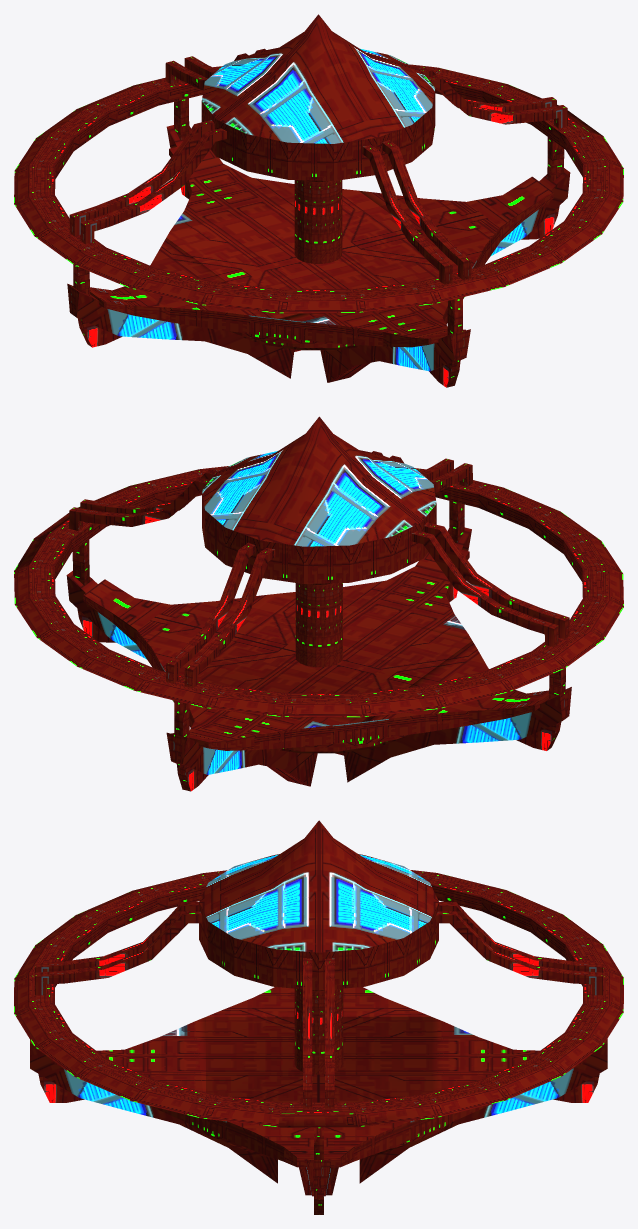
Rendered from Vul_StarBase.fbx.
The picture shows the model from 3 angles, top to bottom: view 1: azimuth 30°, elevation 25°; view 2: azimuth 150°, elevation 25°; view 3: azimuth 270°, elevation 25°; orthographic projection.
Parts seen in each view (by area): view 1: Vul_StarBase; view 2: Vul_StarBase; view 3: Vul_StarBase.
Part boxes in pixels (x1=…): Vul_StarBase: x1=14, y1=14, x2=623, y2=387; Vul_StarBase: x1=14, y1=416, x2=623, y2=791; Vul_StarBase: x1=14, y1=820, x2=623, y2=1214.
Size of the model in its own units: 999 by 634 by 979.
1 material, 1 textured.
